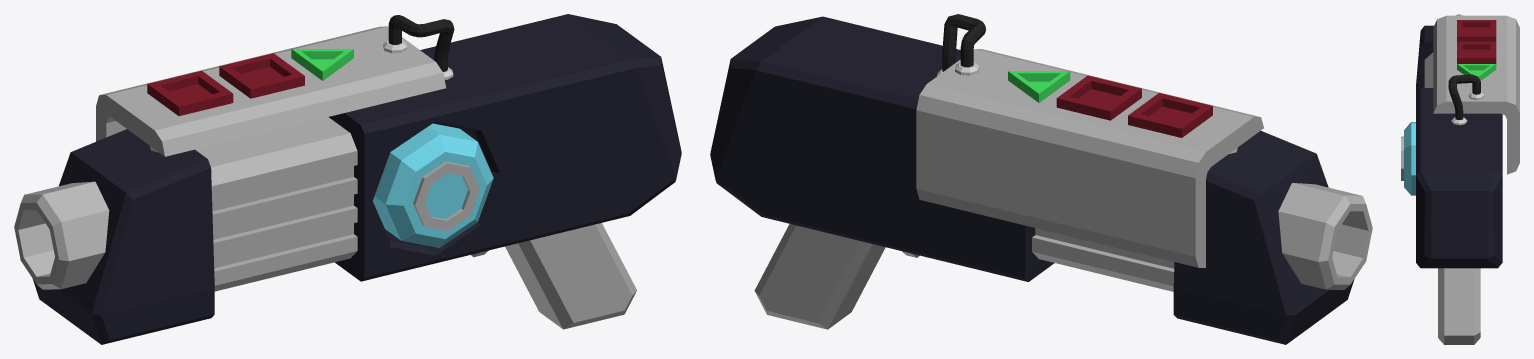
The model's file is Blaster_test.fbx.
3 views of the same model, side by side, from view 1: azimuth 30°, elevation 25°; view 2: azimuth 150°, elevation 25°; view 3: azimuth 270°, elevation 25° (orthographic). The views are drawn at different scales.
Visible parts, largest first — view 1: Blaster_Export; view 2: Blaster_Export; view 3: Blaster_Export.
Boxes of the visible parts, x1,y1,x2,y2 form: Blaster_Export: (14, 14, 681, 344); Blaster_Export: (710, 14, 1372, 344); Blaster_Export: (1401, 14, 1519, 344).
Bounding box in the file's own units: 1040 × 531 × 274.
